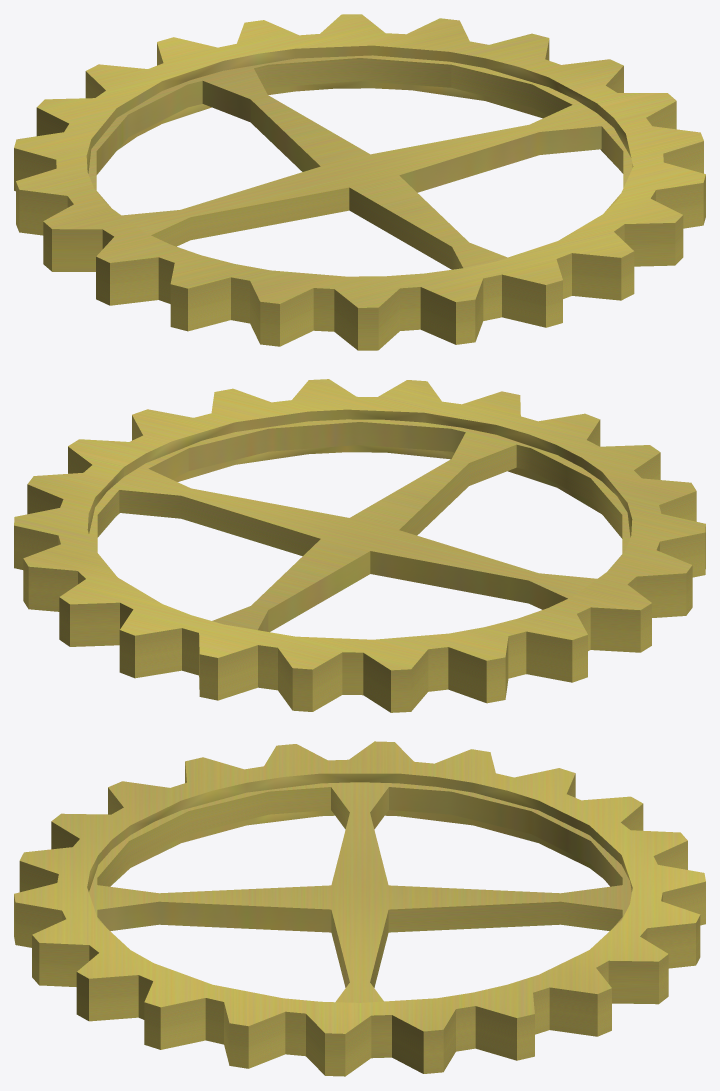
File: CogInset4Spoke022.fbx
3 views of the same model, one above another, from view 1: azimuth 30°, elevation 25°; view 2: azimuth 150°, elevation 25°; view 3: azimuth 270°, elevation 25° (orthographic).
Parts seen in each view (by area): view 1: CogInset4Spoke022; view 2: CogInset4Spoke022; view 3: CogInset4Spoke022.
Boxes of the visible parts, x1,y1,x2,y2 form: CogInset4Spoke022: [14, 14, 705, 350]; CogInset4Spoke022: [14, 379, 705, 712]; CogInset4Spoke022: [14, 741, 705, 1076].
Bounding box in the file's own units: 215 × 14.59 × 215.
